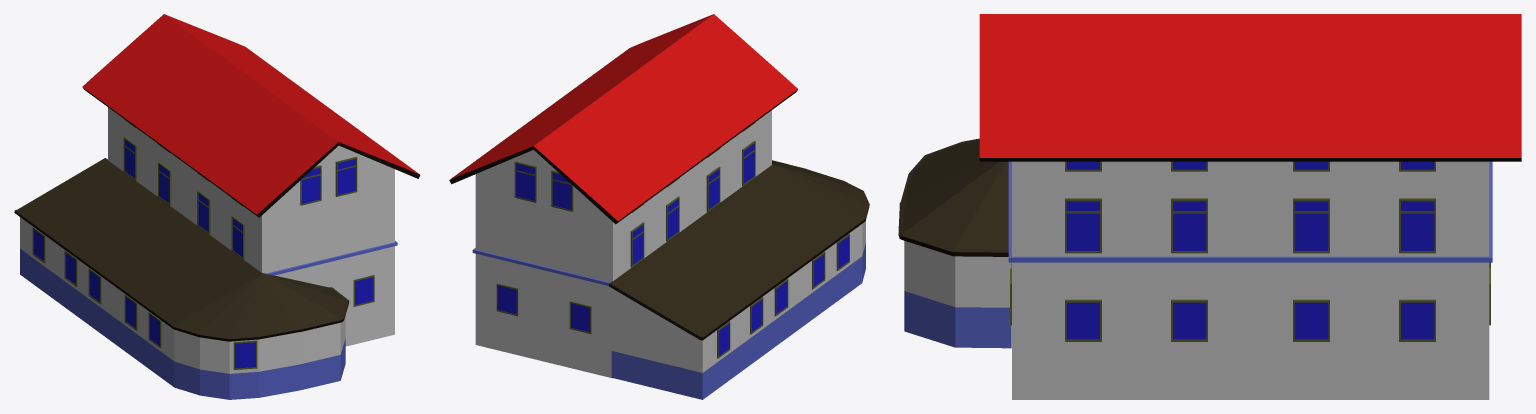
Rendered from TrainStationBuilding1.obj.
3 renders of one model, left to right at view 1: azimuth 30°, elevation 25°; view 2: azimuth 150°, elevation 25°; view 3: azimuth 270°, elevation 25°, orthographic. The views are drawn at different scales.
Visible parts, largest first — view 1: Cube_Cube.001, Cube.001_Cube.002, Windows_Plane, Windows.001_Plane.001; view 2: Cube_Cube.001, Cube.001_Cube.002, Windows_Plane, Windows.001_Plane.001; view 3: Cube_Cube.001, Cube.001_Cube.002, Windows_Plane.
Boxes of the visible parts, left/top/right/bottom form: Cube_Cube.001: left=82, top=14, right=420, bottom=346; Cube.001_Cube.002: left=14, top=158, right=349, bottom=399; Windows_Plane: left=123, top=119, right=374, bottom=306; Windows.001_Plane.001: left=32, top=227, right=257, bottom=369; Cube_Cube.001: left=449, top=14, right=798, bottom=378; Cube.001_Cube.002: left=609, top=160, right=869, bottom=399; Windows_Plane: left=496, top=122, right=755, bottom=333; Windows.001_Plane.001: left=717, top=233, right=849, bottom=358; Cube_Cube.001: left=979, top=14, right=1521, bottom=399; Cube.001_Cube.002: left=898, top=138, right=1011, bottom=348; Windows_Plane: left=1010, top=161, right=1490, bottom=341.
Bounding box in the file's own units: 13.4 × 11.63 × 19.56.
